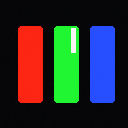4 line_v: (71, 28, 75, 52)
